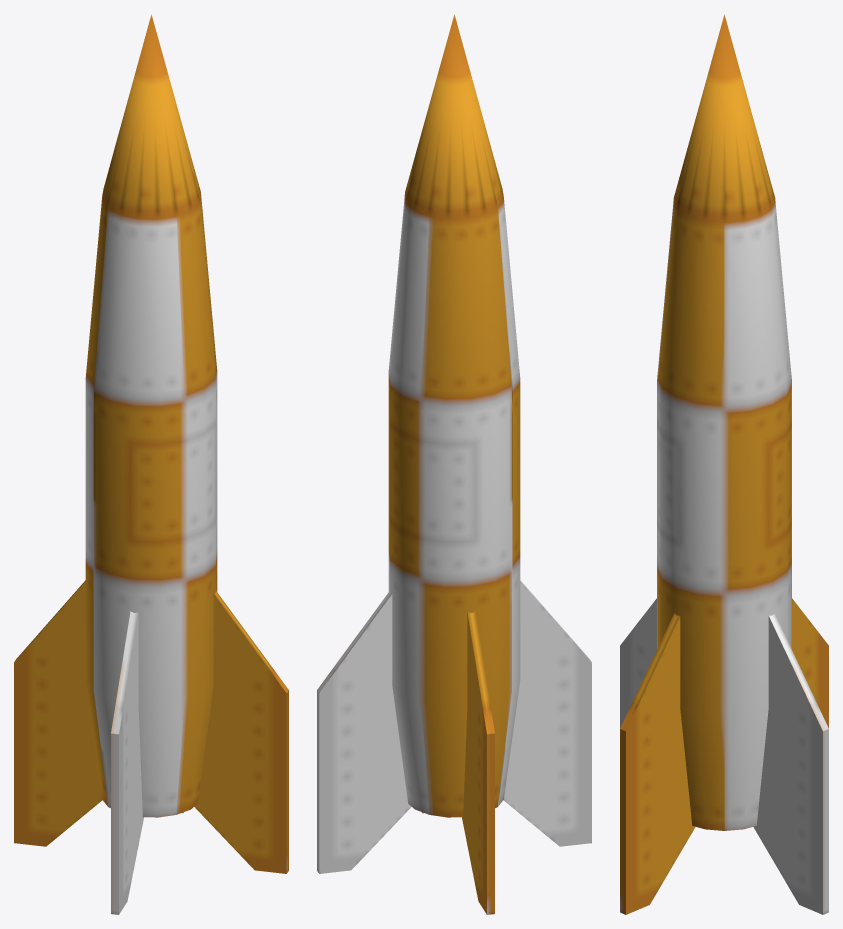
Rendered from missile_incendiary.obj.
3 views of the same model, side by side, from view 1: azimuth 30°, elevation 25°; view 2: azimuth 150°, elevation 25°; view 3: azimuth 270°, elevation 25° (orthographic).
Visible parts, largest first — view 1: missile_incendiary; view 2: missile_incendiary; view 3: missile_incendiary.
Part boxes in pixels (x1,y1,x2,y2): missile_incendiary: [14, 14, 288, 914]; missile_incendiary: [317, 14, 591, 914]; missile_incendiary: [620, 14, 828, 914].
Bounding box in the file's own units: 1.55 × 7 × 1.55.
